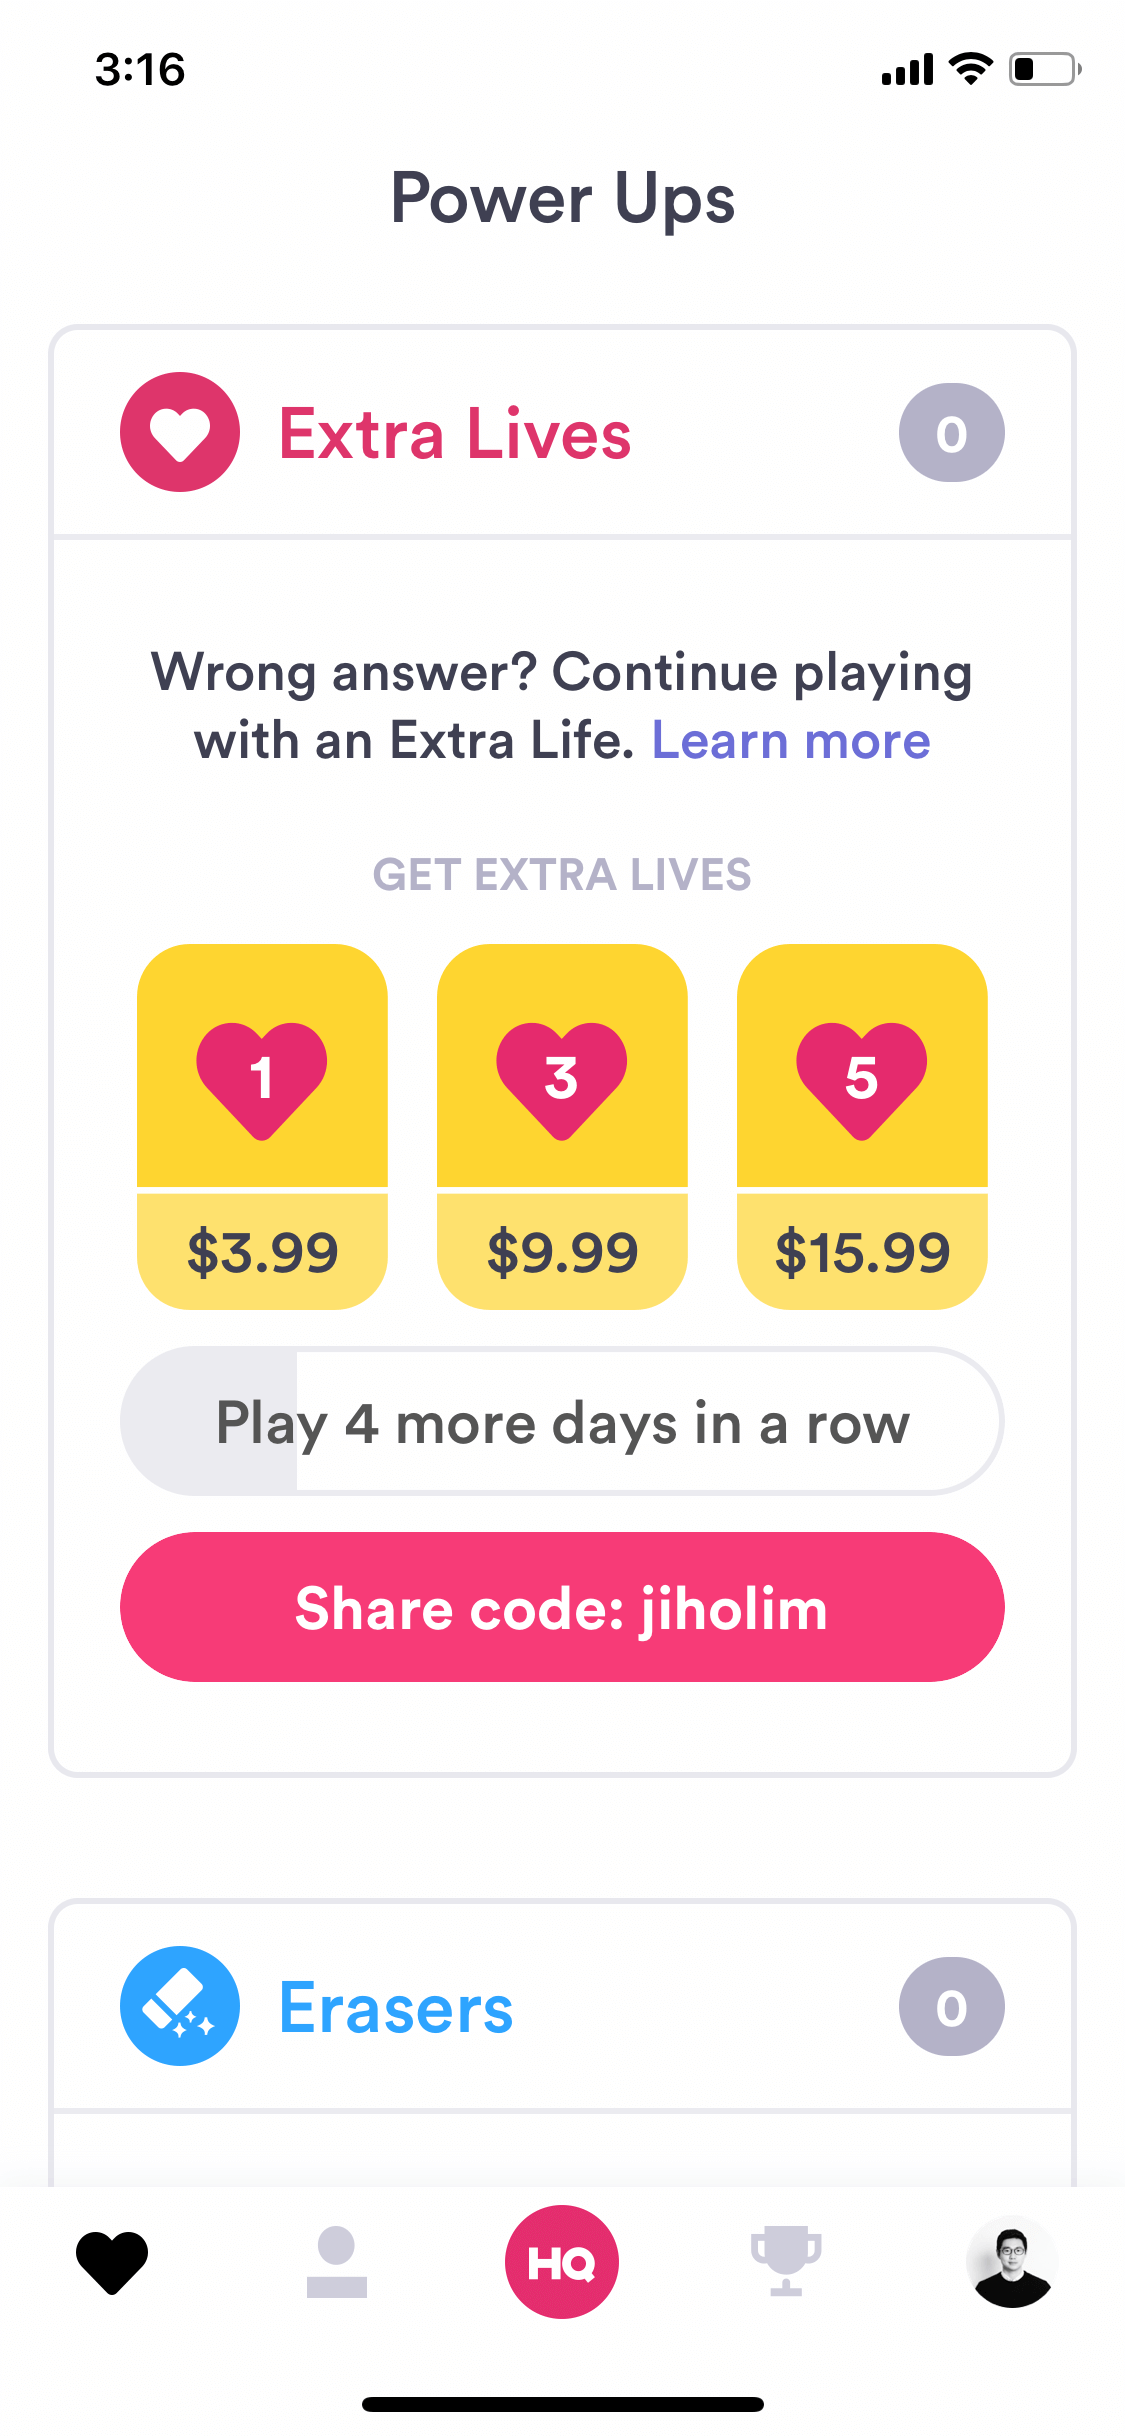Buttons: (115, 1515, 1018, 1714)
